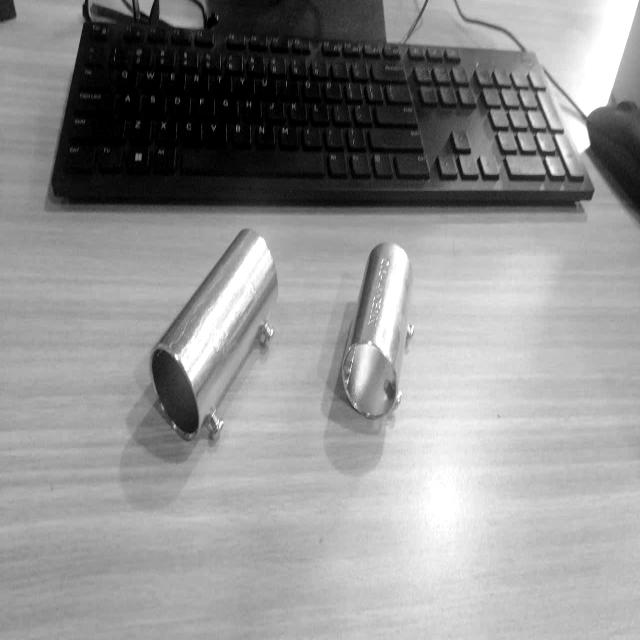Co_Lon: (124, 216, 313, 450)
Co_Nho: (333, 238, 428, 423)
